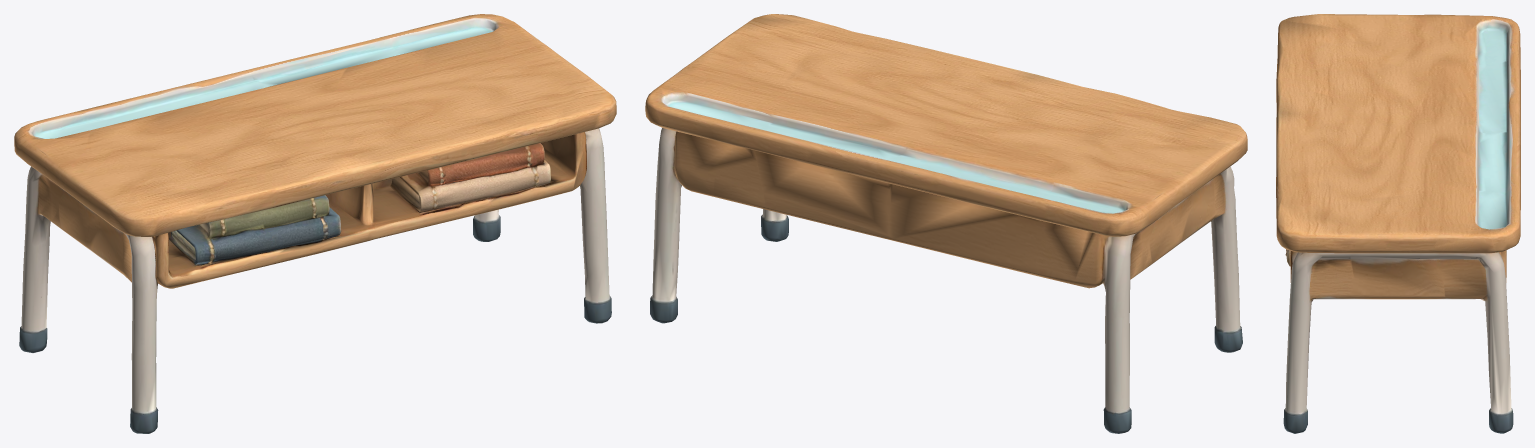
The model's file is desk.high.glb.
3 views of the same model, side by side, from view 1: azimuth 30°, elevation 25°; view 2: azimuth 150°, elevation 25°; view 3: azimuth 270°, elevation 25° (orthographic). The views are drawn at different scales.
Parts seen in each view (by area): view 1: tripo_node_b1cdfc5c-08b7-4f80-a41d-1fa9920e12f6; view 2: tripo_node_b1cdfc5c-08b7-4f80-a41d-1fa9920e12f6; view 3: tripo_node_b1cdfc5c-08b7-4f80-a41d-1fa9920e12f6.
Boxes of the visible parts, left/top/right/bottom form: tripo_node_b1cdfc5c-08b7-4f80-a41d-1fa9920e12f6: left=14, top=14, right=616, bottom=433; tripo_node_b1cdfc5c-08b7-4f80-a41d-1fa9920e12f6: left=645, top=14, right=1247, bottom=433; tripo_node_b1cdfc5c-08b7-4f80-a41d-1fa9920e12f6: left=1276, top=14, right=1520, bottom=433.
Size of the model in its own units: 1.56 by 0.6598 by 0.7198.
1 material, 1 textured.
